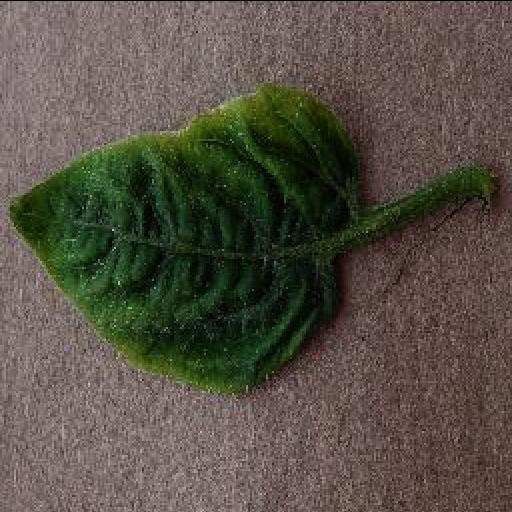disease_tomato: (2, 82, 368, 400)
